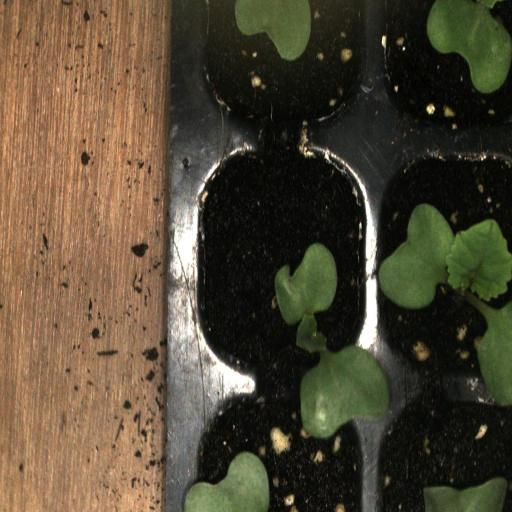seedling: (188, 141, 370, 391), (375, 143, 512, 387)
